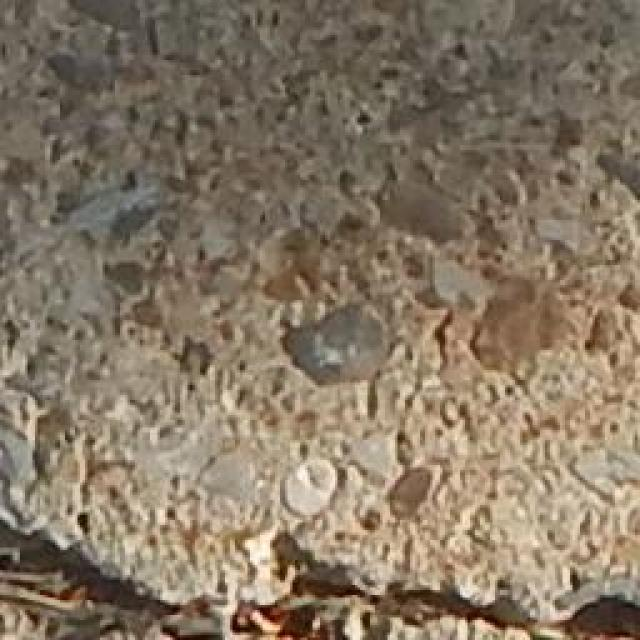concrete-crack: (0, 519, 640, 638)
